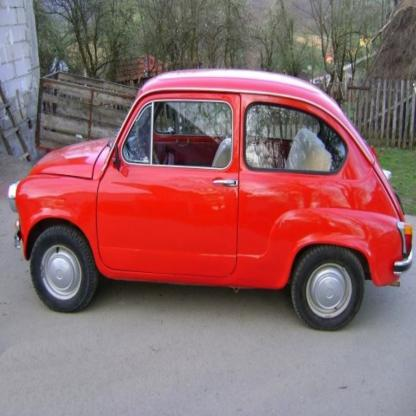Car: (8, 69, 414, 333)
